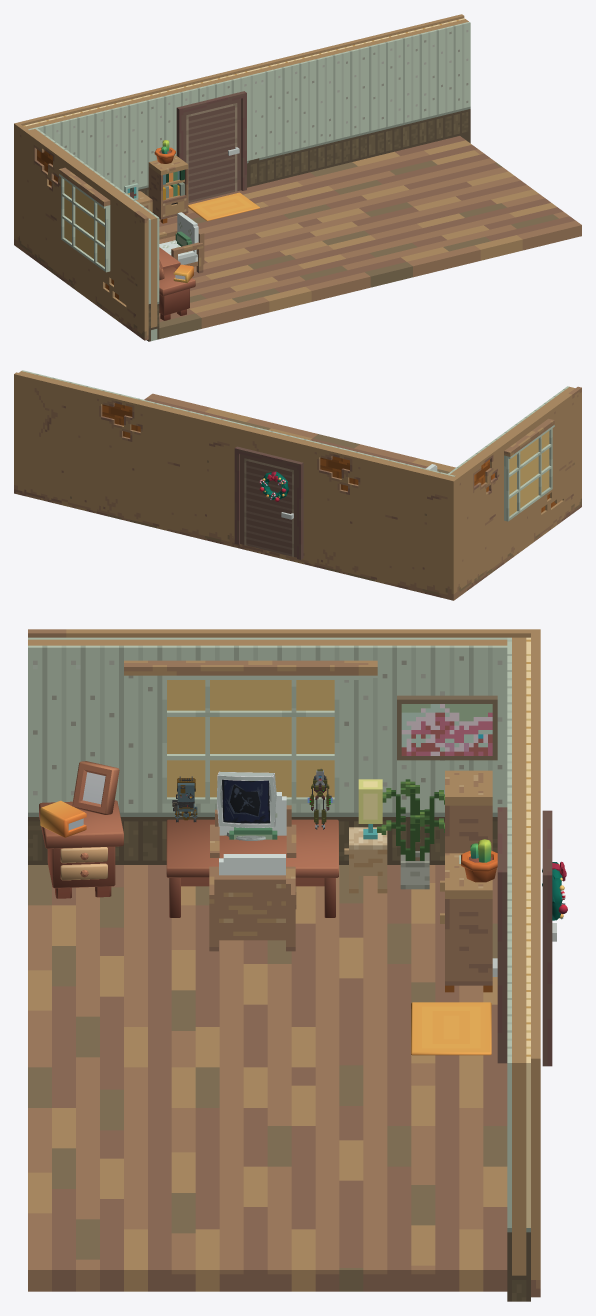
Rendered from Room_Model_v02_compressed.glb.
The picture shows the model from 3 angles, top to bottom: view 1: azimuth 30°, elevation 25°; view 2: azimuth 150°, elevation 25°; view 3: azimuth 270°, elevation 25°; orthographic projection. The views are drawn at different scales.
Parts seen in each view (by area): view 1: Untitled.020, Untitled.021, Untitled.001, Untitled.003, Untitled.005, Untitled.015, Untitled.002, Untitled.016, Cupboard, Untitled.017, cabinet_small_decorated_Cube.048, Untitled.004 (+2 smaller); view 2: Untitled.022, Untitled.004, Untitled.003, Untitled.023, Untitled.002, Untitled.020, Untitled.016, Untitled.021, Untitled.005, Untitled.001, wreath; view 3: Untitled.020, Untitled.001, Untitled.016, Untitled.012, Untitled.021, cabinet_small_decorated_Cube.048, table_medium_long_Cube.004, Untitled.017, Untitled.011, Cupboard, Untitled.005, Untitled.003 (+13 smaller).
Part boxes in pixels (x1=…): Untitled.020: x1=249, y1=136, x2=581, y2=287; Untitled.021: x1=243, y1=18, x2=470, y2=186; Untitled.001: x1=159, y1=187, x2=370, y2=338; Untitled.003: x1=16, y1=124, x2=148, y2=340; Untitled.005: x1=23, y1=72, x2=248, y2=196; Untitled.015: x1=176, y1=91, x2=246, y2=202; Untitled.002: x1=59, y1=167, x2=110, y2=272; Untitled.016: x1=29, y1=128, x2=159, y2=341; Cupboard: x1=148, y1=155, x2=188, y2=223; Untitled.017: x1=159, y1=212, x2=204, y2=273; cabinet_small_decorated_Cube.048: x1=159, y1=259, x2=195, y2=320; Untitled.004: x1=14, y1=68, x2=242, y2=246; Untitled.022: x1=14, y1=372, x2=237, y2=547; Untitled.004: x1=232, y1=425, x2=456, y2=600; Untitled.003: x1=452, y1=386, x2=581, y2=598; Untitled.023: x1=234, y1=446, x2=303, y2=559; Untitled.002: x1=504, y1=418, x2=554, y2=521; Untitled.020: x1=144, y1=393, x2=359, y2=450; Untitled.016: x1=448, y1=386, x2=575, y2=475; Untitled.021: x1=19, y1=370, x2=239, y2=425; Untitled.005: x1=237, y1=423, x2=455, y2=478; Untitled.001: x1=352, y1=444, x2=455, y2=473; wreath: x1=259, y1=471, x2=288, y2=501; Untitled.020: x1=28, y1=1067, x2=507, y2=1291; Untitled.001: x1=28, y1=865, x2=507, y2=1067; Untitled.016: x1=28, y1=637, x2=507, y2=864; Untitled.012: x1=124, y1=660, x2=377, y2=803; Untitled.021: x1=507, y1=850, x2=530, y2=1301; cabinet_small_decorated_Cube.048: x1=39, y1=761, x2=123, y2=898; table_medium_long_Cube.004: x1=166, y1=819, x2=338, y2=917; Untitled.017: x1=209, y1=854, x2=295, y2=951; Untitled.011: x1=397, y1=695, x2=497, y2=760; Cupboard: x1=445, y1=864, x2=492, y2=992; Untitled.005: x1=507, y1=637, x2=530, y2=850; Untitled.003: x1=28, y1=629, x2=530, y2=637.
Bounding box in the file's own units: 4.3 × 1.12 × 2.25.
Materials: 6 (6 with a texture image).
